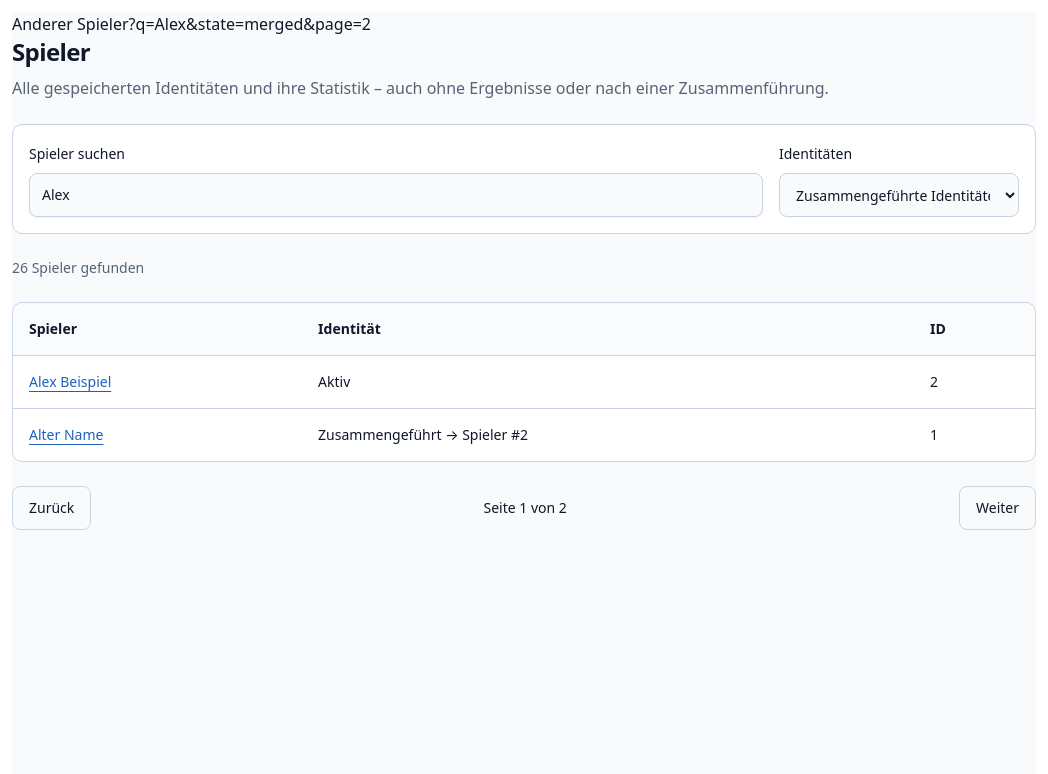
Test case: admin player list › loads all identities, searches in URL, resets pagination and navigates to details
Expected: the table is shown, x1=13 y1=303 x2=1035 y2=461
Step 1. Replace the text in the field labelled "Spieler suchen" with "Andere" → point(396, 195), box x1=29 y1=173 x2=763 y2=217
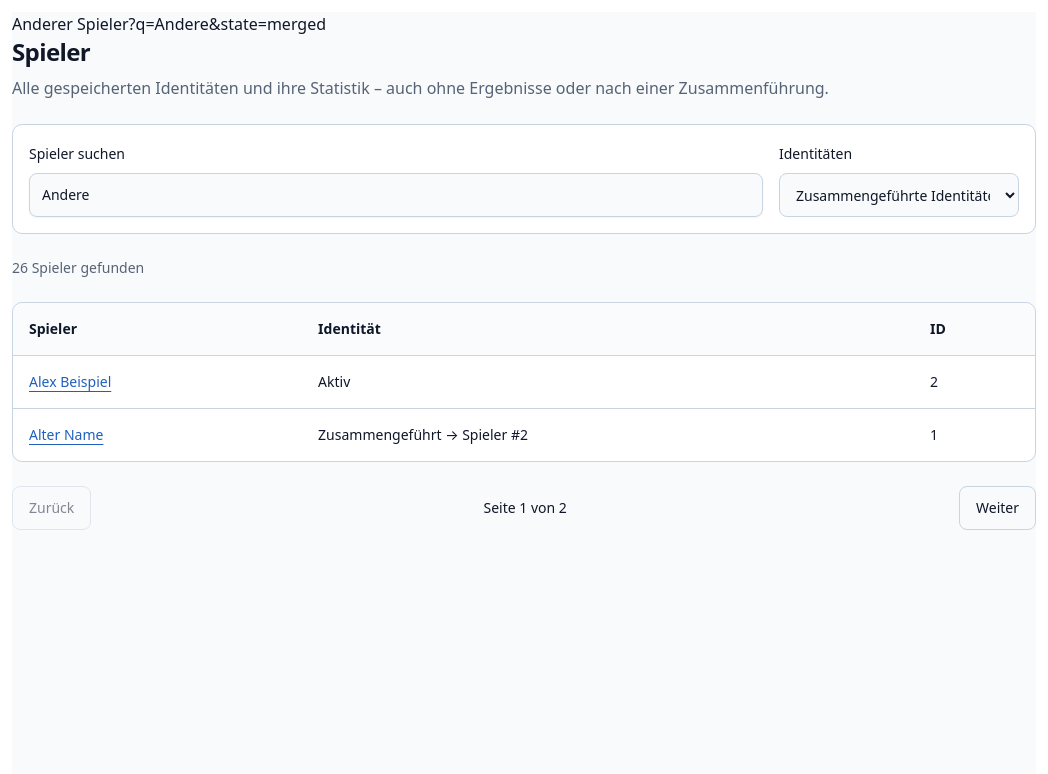
Now the text with test id "location" no longer shows "page=", box x1=129 y1=13 x2=326 y2=35
Step 2. Select "Alle Spieler" in the dropdown labelled "Identitäten" → point(899, 195), box x1=779 y1=173 x2=1019 y2=217
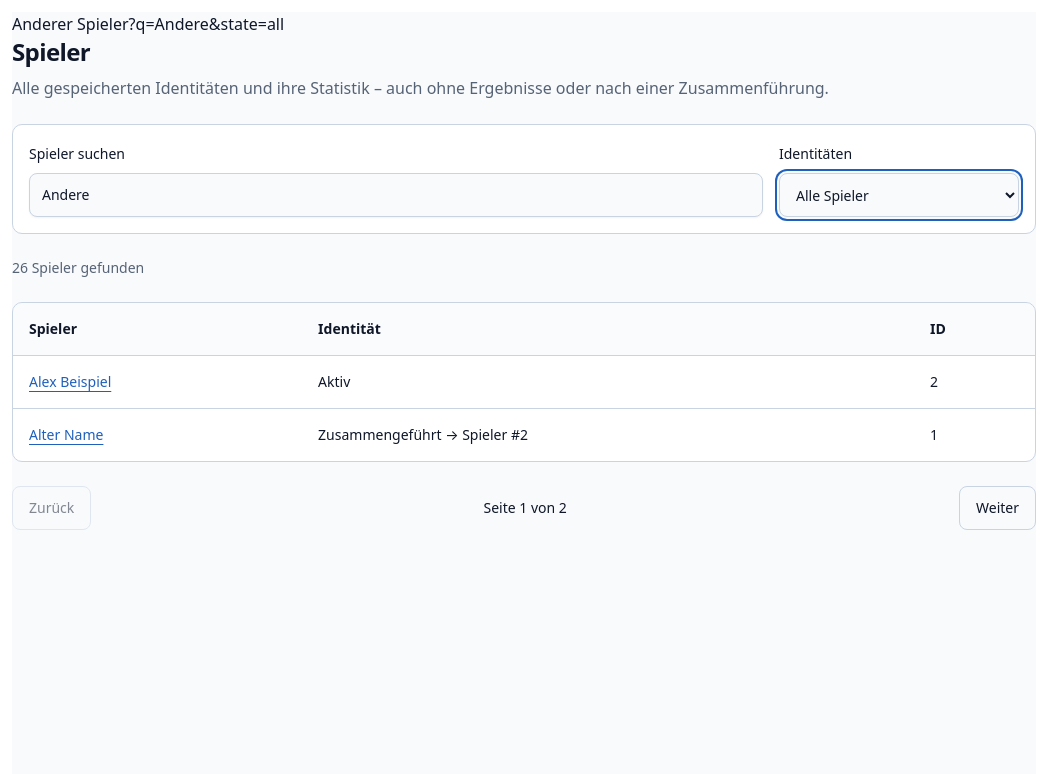
Expected: the table is shown, x1=13 y1=303 x2=1035 y2=461
Step 3. Click the button "Weiter" → point(998, 508), box x1=959 y1=486 x2=1036 y2=530
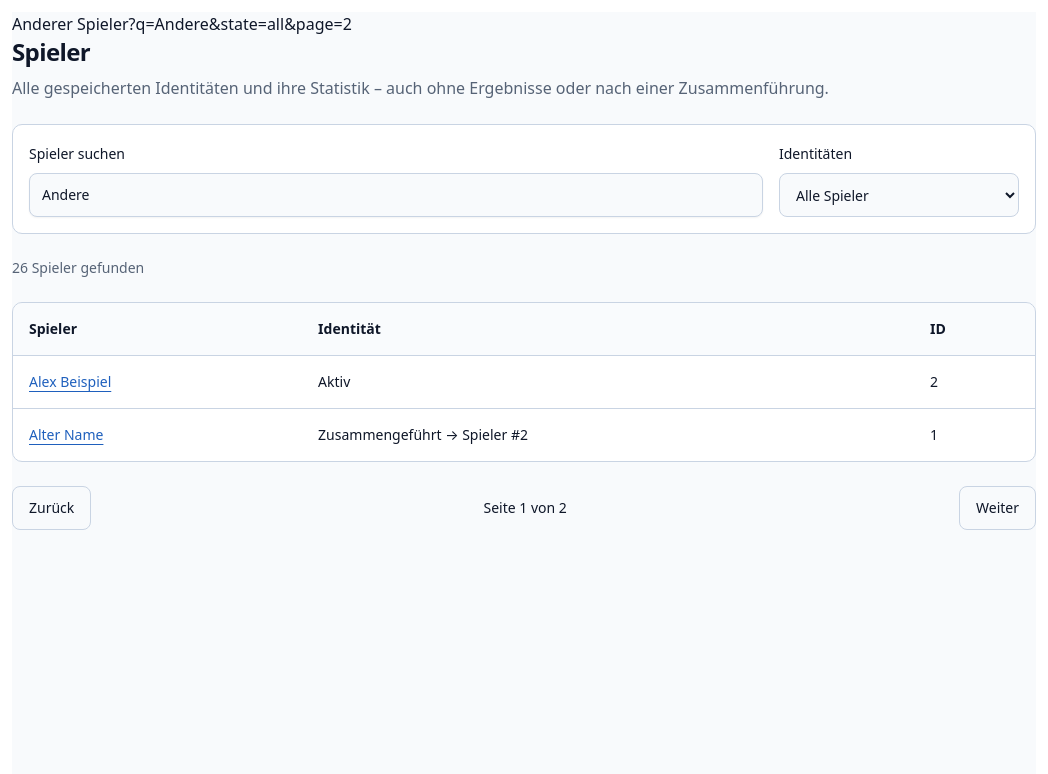
Step 4. Click the link "Alex Beispiel" → point(70, 382), box x1=29 y1=372 x2=111 y2=391
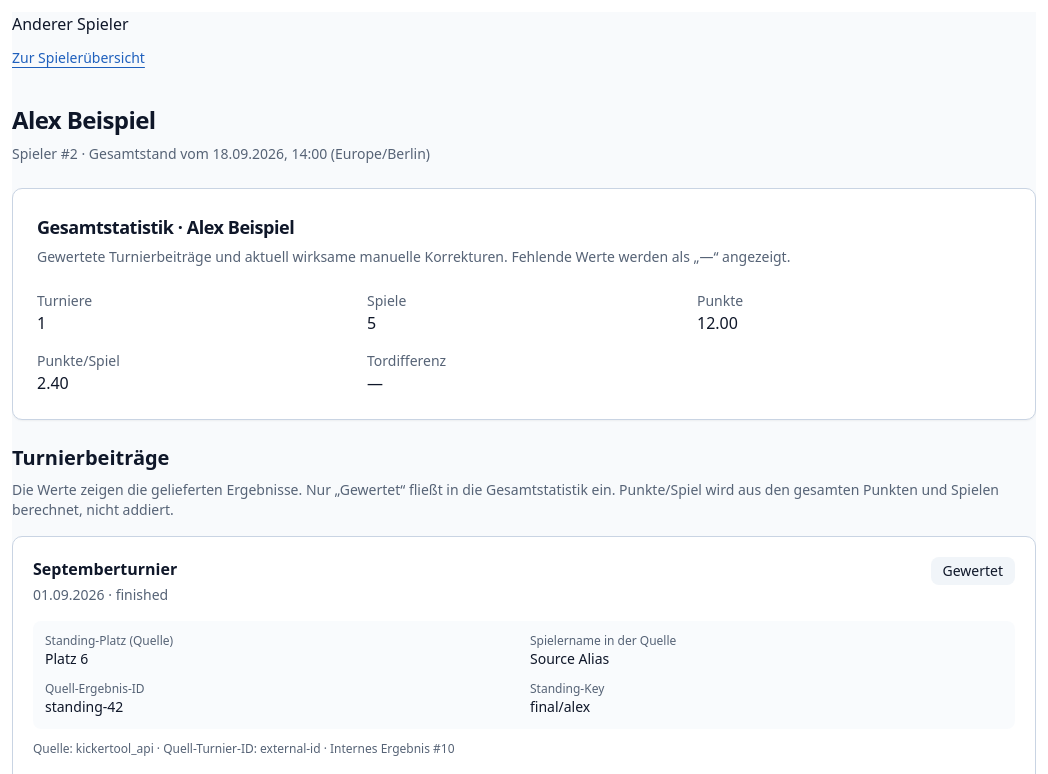
Now the heading "Alex Beispiel" is shown, box x1=12 y1=103 x2=156 y2=136
